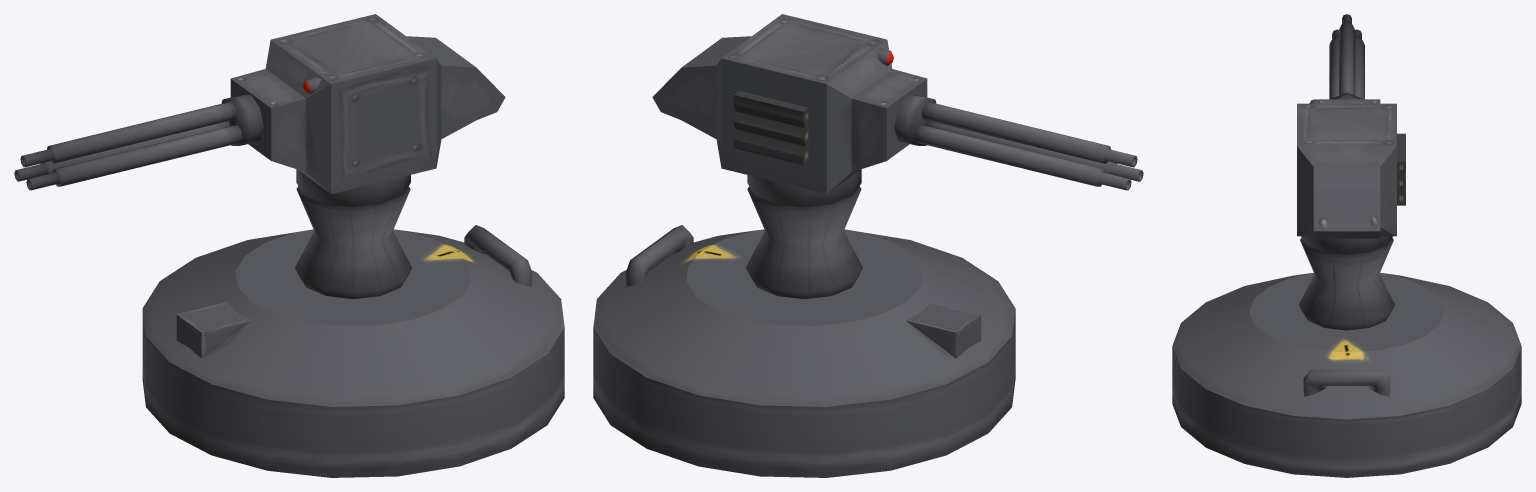
The model's file is turret01.fbx.
3 views of the same model, side by side, from view 1: azimuth 30°, elevation 25°; view 2: azimuth 150°, elevation 25°; view 3: azimuth 270°, elevation 25° (orthographic). The views are drawn at different scales.
Visible parts, largest first — view 1: turret_base, turret, turret_barrel; view 2: turret_base, turret, turret_barrel; view 3: turret_base, turret, turret_barrel.
Boxes of the visible parts, box(x1,y1,x2,y2) form: turret_base: box(142, 225, 564, 477); turret: box(230, 14, 505, 298); turret_barrel: box(14, 94, 263, 190); turret_base: box(593, 225, 1015, 477); turret: box(652, 14, 927, 298); turret_barrel: box(894, 94, 1143, 190); turret_base: box(1172, 272, 1521, 477); turret: box(1297, 99, 1405, 330); turret_barrel: box(1329, 14, 1364, 99).
Size of the model in its own units: 1.76 by 1.11 by 1.26.
Materials: 1 (1 with a texture image).
